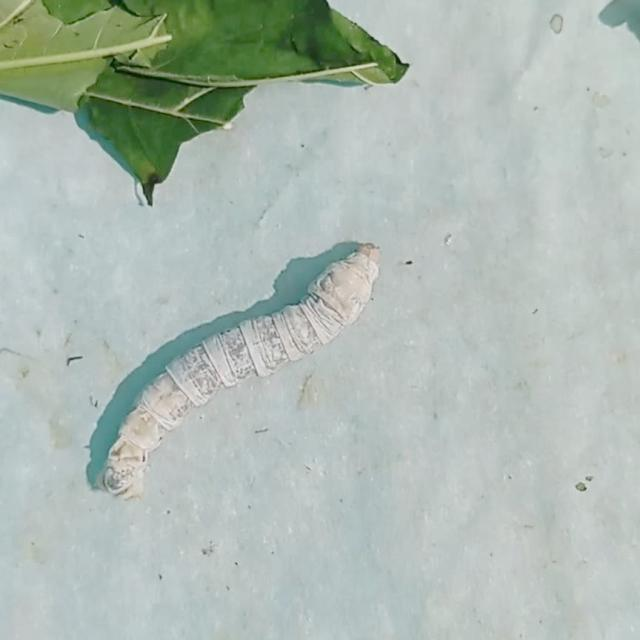Grasserie: (91, 228, 415, 508)
